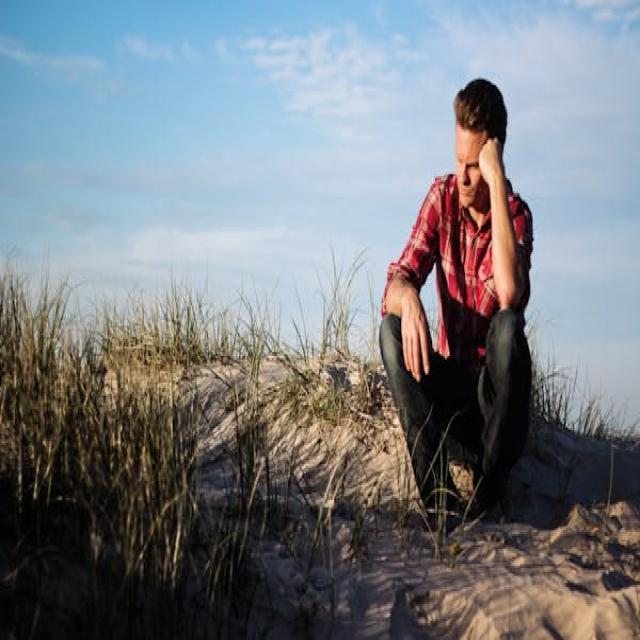Real human 2: (358, 46, 568, 540)
